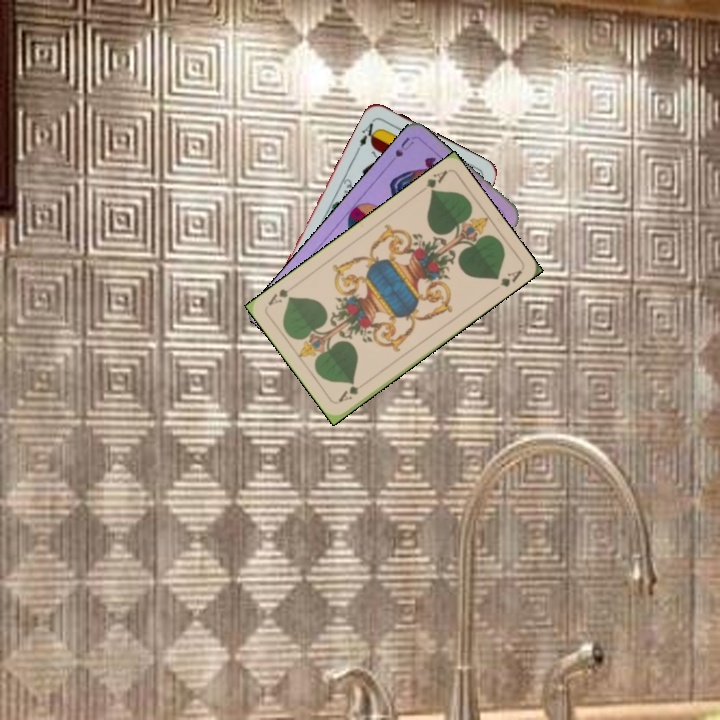EA: (352, 116, 381, 154)
GA: (415, 166, 449, 197), (334, 382, 361, 405)
SU: (385, 133, 417, 169)
